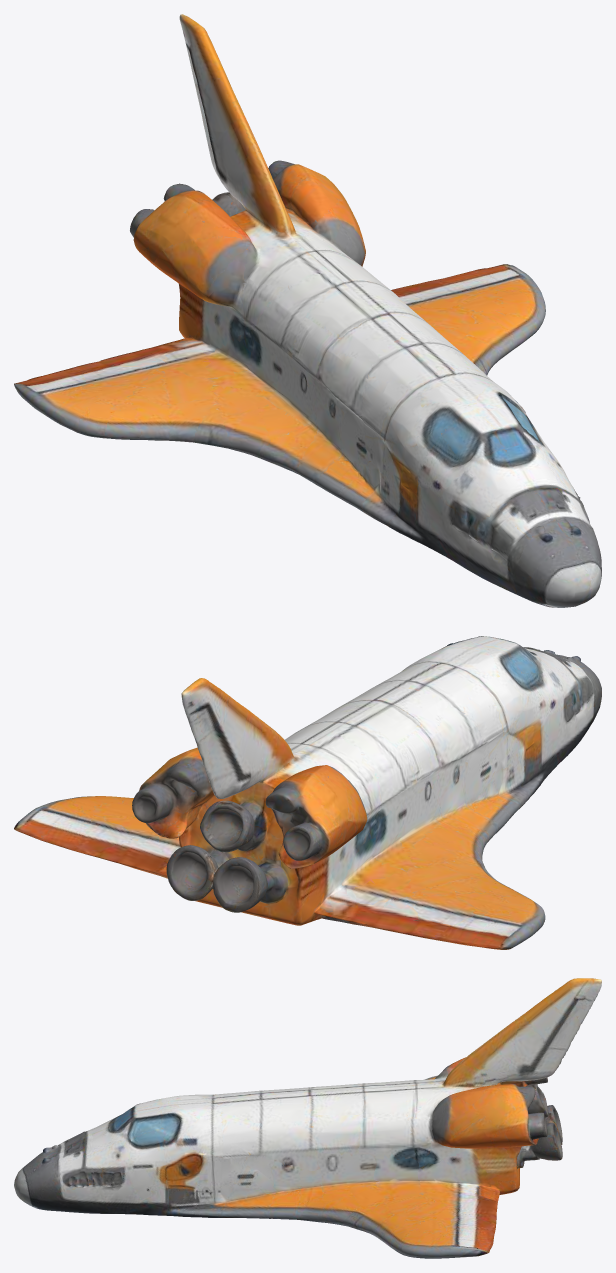
3 renders of one model, top to bottom at view 1: azimuth 30°, elevation 25°; view 2: azimuth 150°, elevation 25°; view 3: azimuth 270°, elevation 25°, orthographic. The views are drawn at different scales.
Size of the model in its own units: 1.43 by 0.855 by 2.
1 material, 1 textured.
